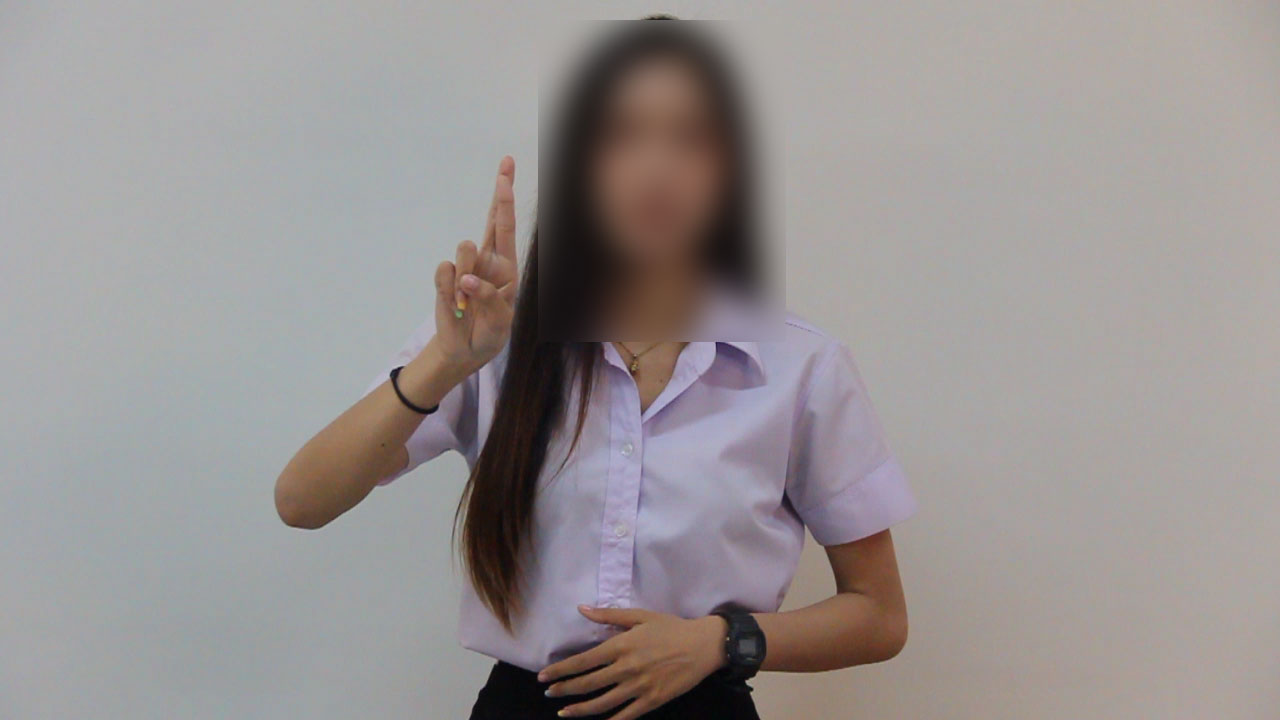rao: (395, 151, 534, 362)
